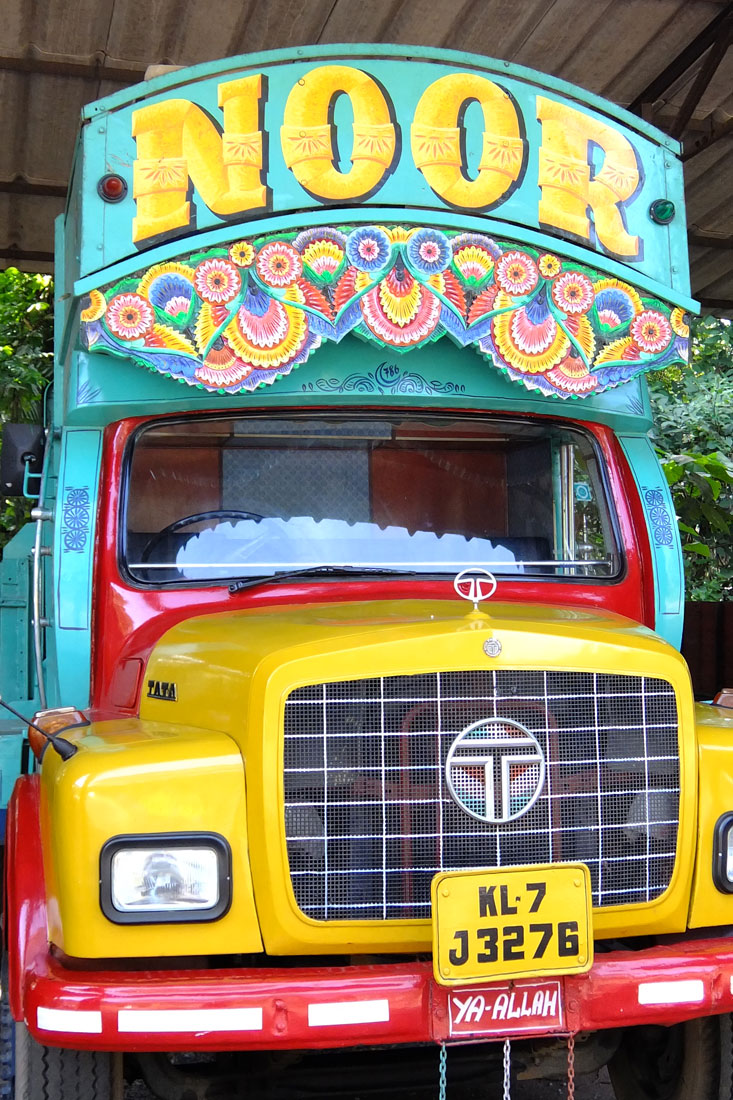doublelinenumberplate: (429, 863, 596, 983)
